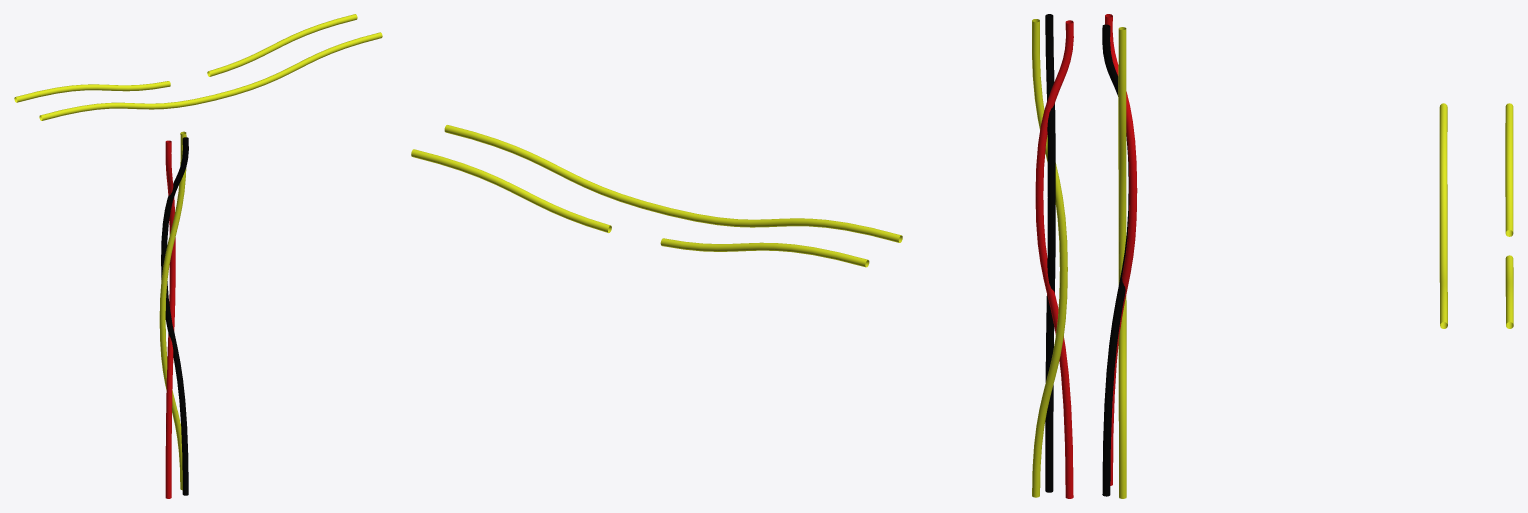
File: filo.fbx
3 views of the same model, side by side, from view 1: azimuth 30°, elevation 25°; view 2: azimuth 150°, elevation 25°; view 3: azimuth 270°, elevation 25° (orthographic). The views are drawn at different scales.
Parts seen in each view (by area): view 1: BezierCurve.003, BezierCurve.002, BezierCurve.001; view 2: BezierCurve.003, BezierCurve.002, BezierCurve.001; view 3: BezierCurve.003, BezierCurve.002, BezierCurve.001.
Boxes of the visible parts, left/top/right/bottom form: BezierCurve.003: left=159, top=131, right=188, bottom=498; BezierCurve.002: left=39, top=32, right=382, bottom=120; BezierCurve.001: left=14, top=14, right=357, bottom=102; BezierCurve.003: left=1032, top=14, right=1073, bottom=498; BezierCurve.002: left=444, top=125, right=902, bottom=242; BezierCurve.001: left=411, top=149, right=869, bottom=267; BezierCurve.003: left=1102, top=14, right=1137, bottom=498; BezierCurve.002: left=1439, top=103, right=1447, bottom=328; BezierCurve.001: left=1505, top=103, right=1513, bottom=328.
Bounding box in the file's own units: 396 × 393 × 313.
